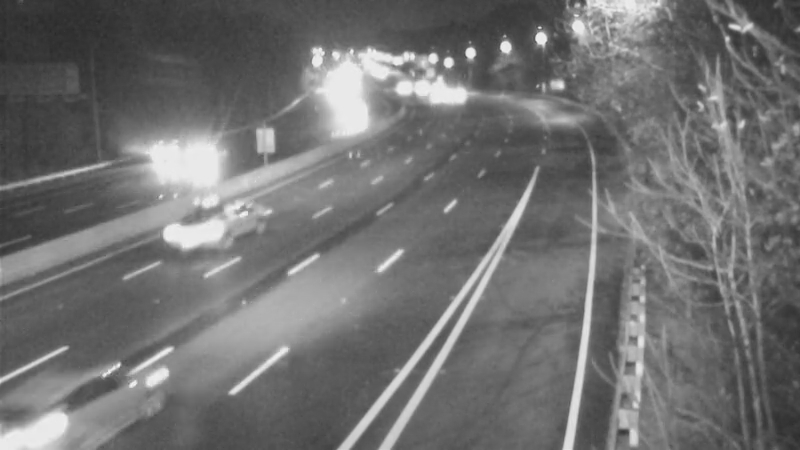vehicle: (1, 355, 103, 450), (177, 183, 257, 263), (121, 118, 201, 198), (152, 133, 232, 213), (400, 69, 450, 119), (324, 87, 374, 137)
